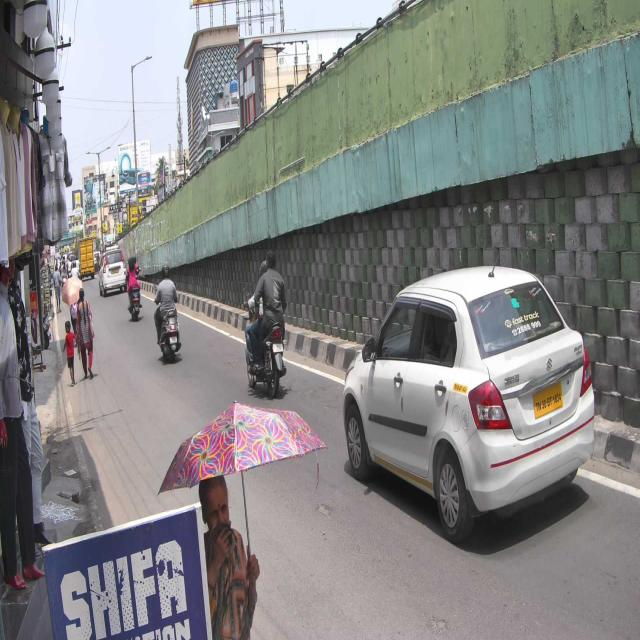double_rider: (244, 248, 288, 397)
